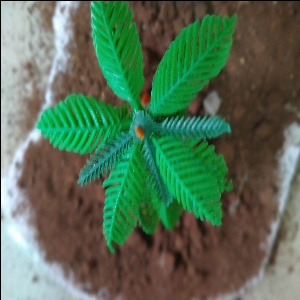plant: (65, 1, 242, 247)
